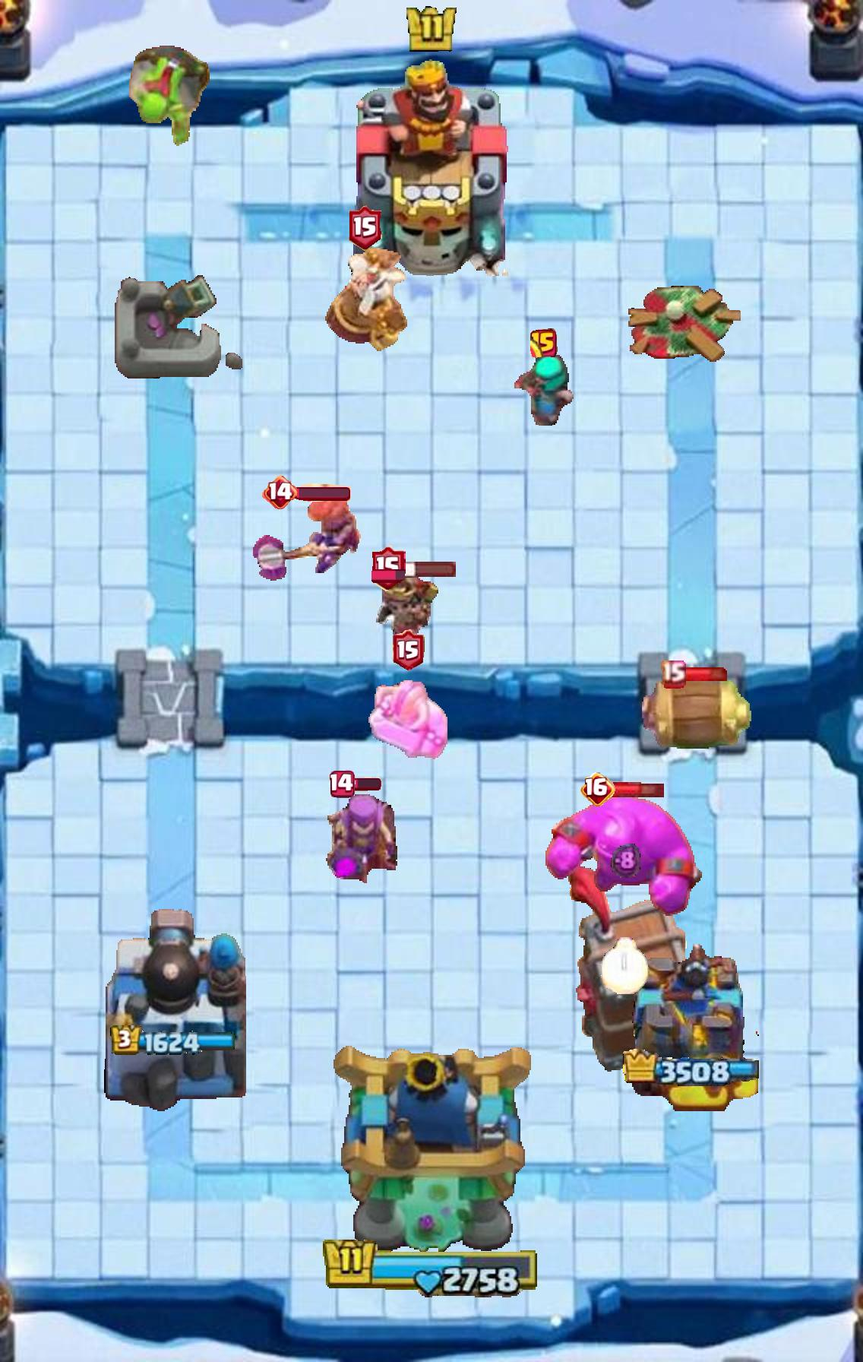bar: (294, 483, 351, 502), (612, 780, 665, 800), (402, 559, 457, 578), (682, 667, 731, 682), (351, 777, 381, 792)
bar-level: (372, 546, 406, 591), (349, 205, 382, 251), (393, 629, 425, 670), (262, 475, 297, 510), (580, 772, 615, 806), (530, 329, 558, 358), (660, 660, 686, 689), (329, 770, 355, 798)
